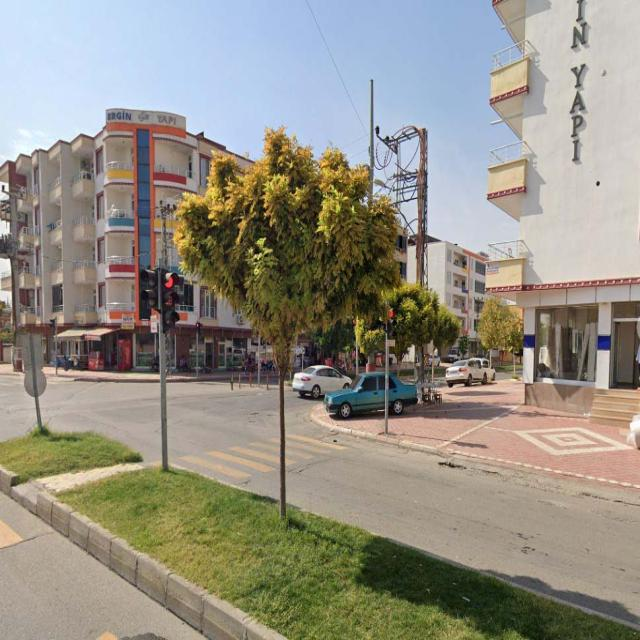kirmizi: (162, 270, 176, 330), (387, 307, 395, 340)
